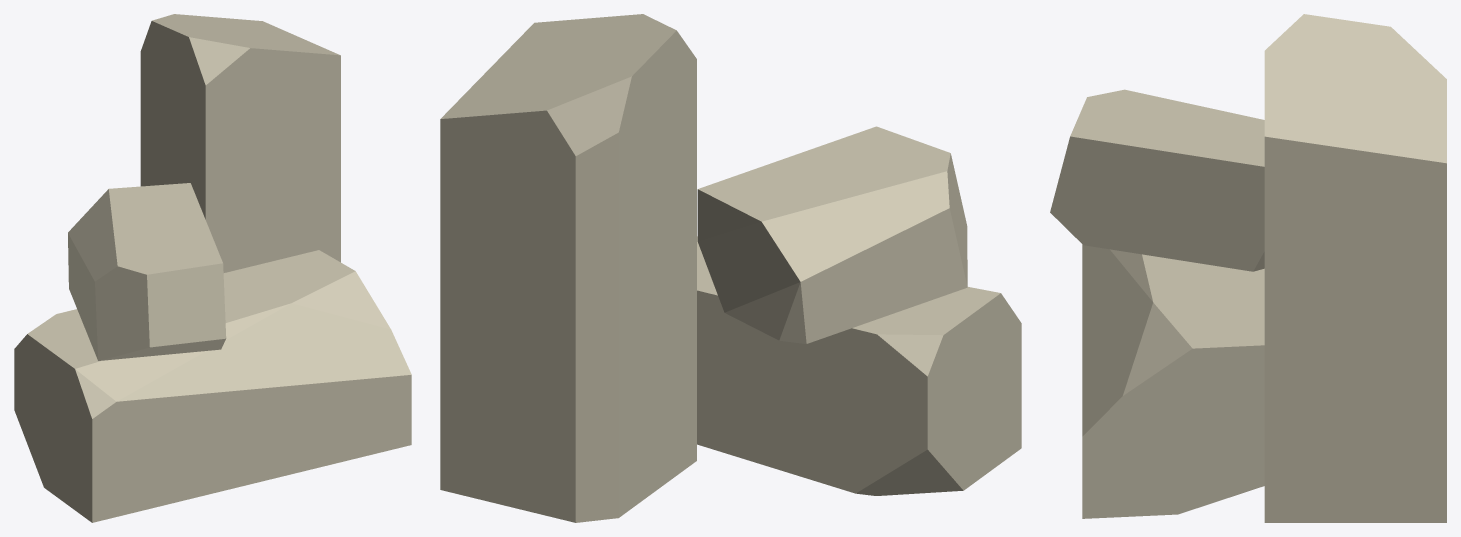
File: Rocks_Square_l_05.fbx
The picture shows the model from 3 angles, left to right: view 1: azimuth 30°, elevation 25°; view 2: azimuth 150°, elevation 25°; view 3: azimuth 270°, elevation 25°; orthographic projection. The views are drawn at different scales.
Parts seen in each view (by area): view 1: Rocks_Square_l_05; view 2: Rocks_Square_l_05; view 3: Rocks_Square_l_05.
Part boxes in pixels (x1,y1,x2,y2): Rocks_Square_l_05: (14,14,411,522); Rocks_Square_l_05: (440,14,1021,522); Rocks_Square_l_05: (1050,14,1446,522).
Bounding box in the file's own units: 161 × 174 × 145.
